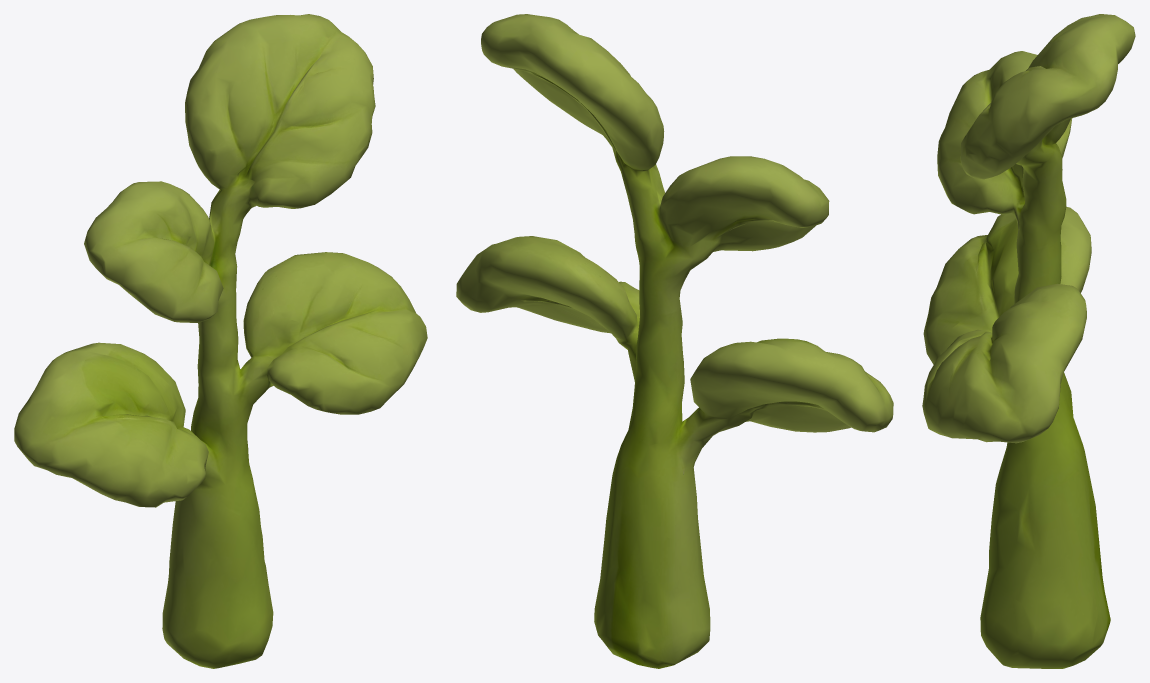
The model's file is rose_s2.glb.
3 views of the same model, side by side, from view 1: azimuth 30°, elevation 25°; view 2: azimuth 150°, elevation 25°; view 3: azimuth 270°, elevation 25° (orthographic). The views are drawn at different scales.
Parts seen in each view (by area): view 1: tripo_node_662b9ee5-1cff-411b-be99-4be9e2d0a33a; view 2: tripo_node_662b9ee5-1cff-411b-be99-4be9e2d0a33a; view 3: tripo_node_662b9ee5-1cff-411b-be99-4be9e2d0a33a.
Part boxes in pixels (left/top/right/bottom): tripo_node_662b9ee5-1cff-411b-be99-4be9e2d0a33a: left=14, top=14, right=427, bottom=668; tripo_node_662b9ee5-1cff-411b-be99-4be9e2d0a33a: left=456, top=14, right=893, bottom=668; tripo_node_662b9ee5-1cff-411b-be99-4be9e2d0a33a: left=922, top=14, right=1135, bottom=668.
Size of the model in its own units: 0.698 by 1 by 0.2841.
1 material, 1 textured.
